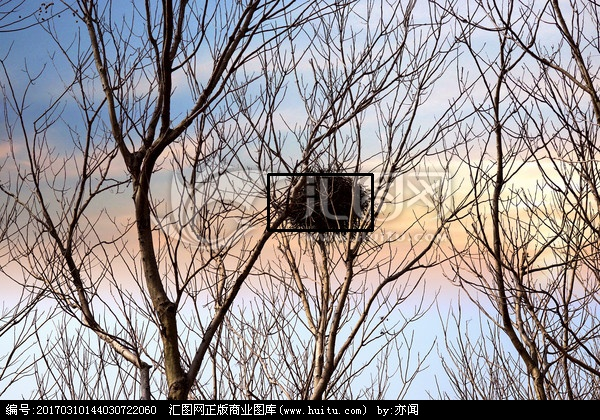bird-nest: (268, 174, 372, 230)
